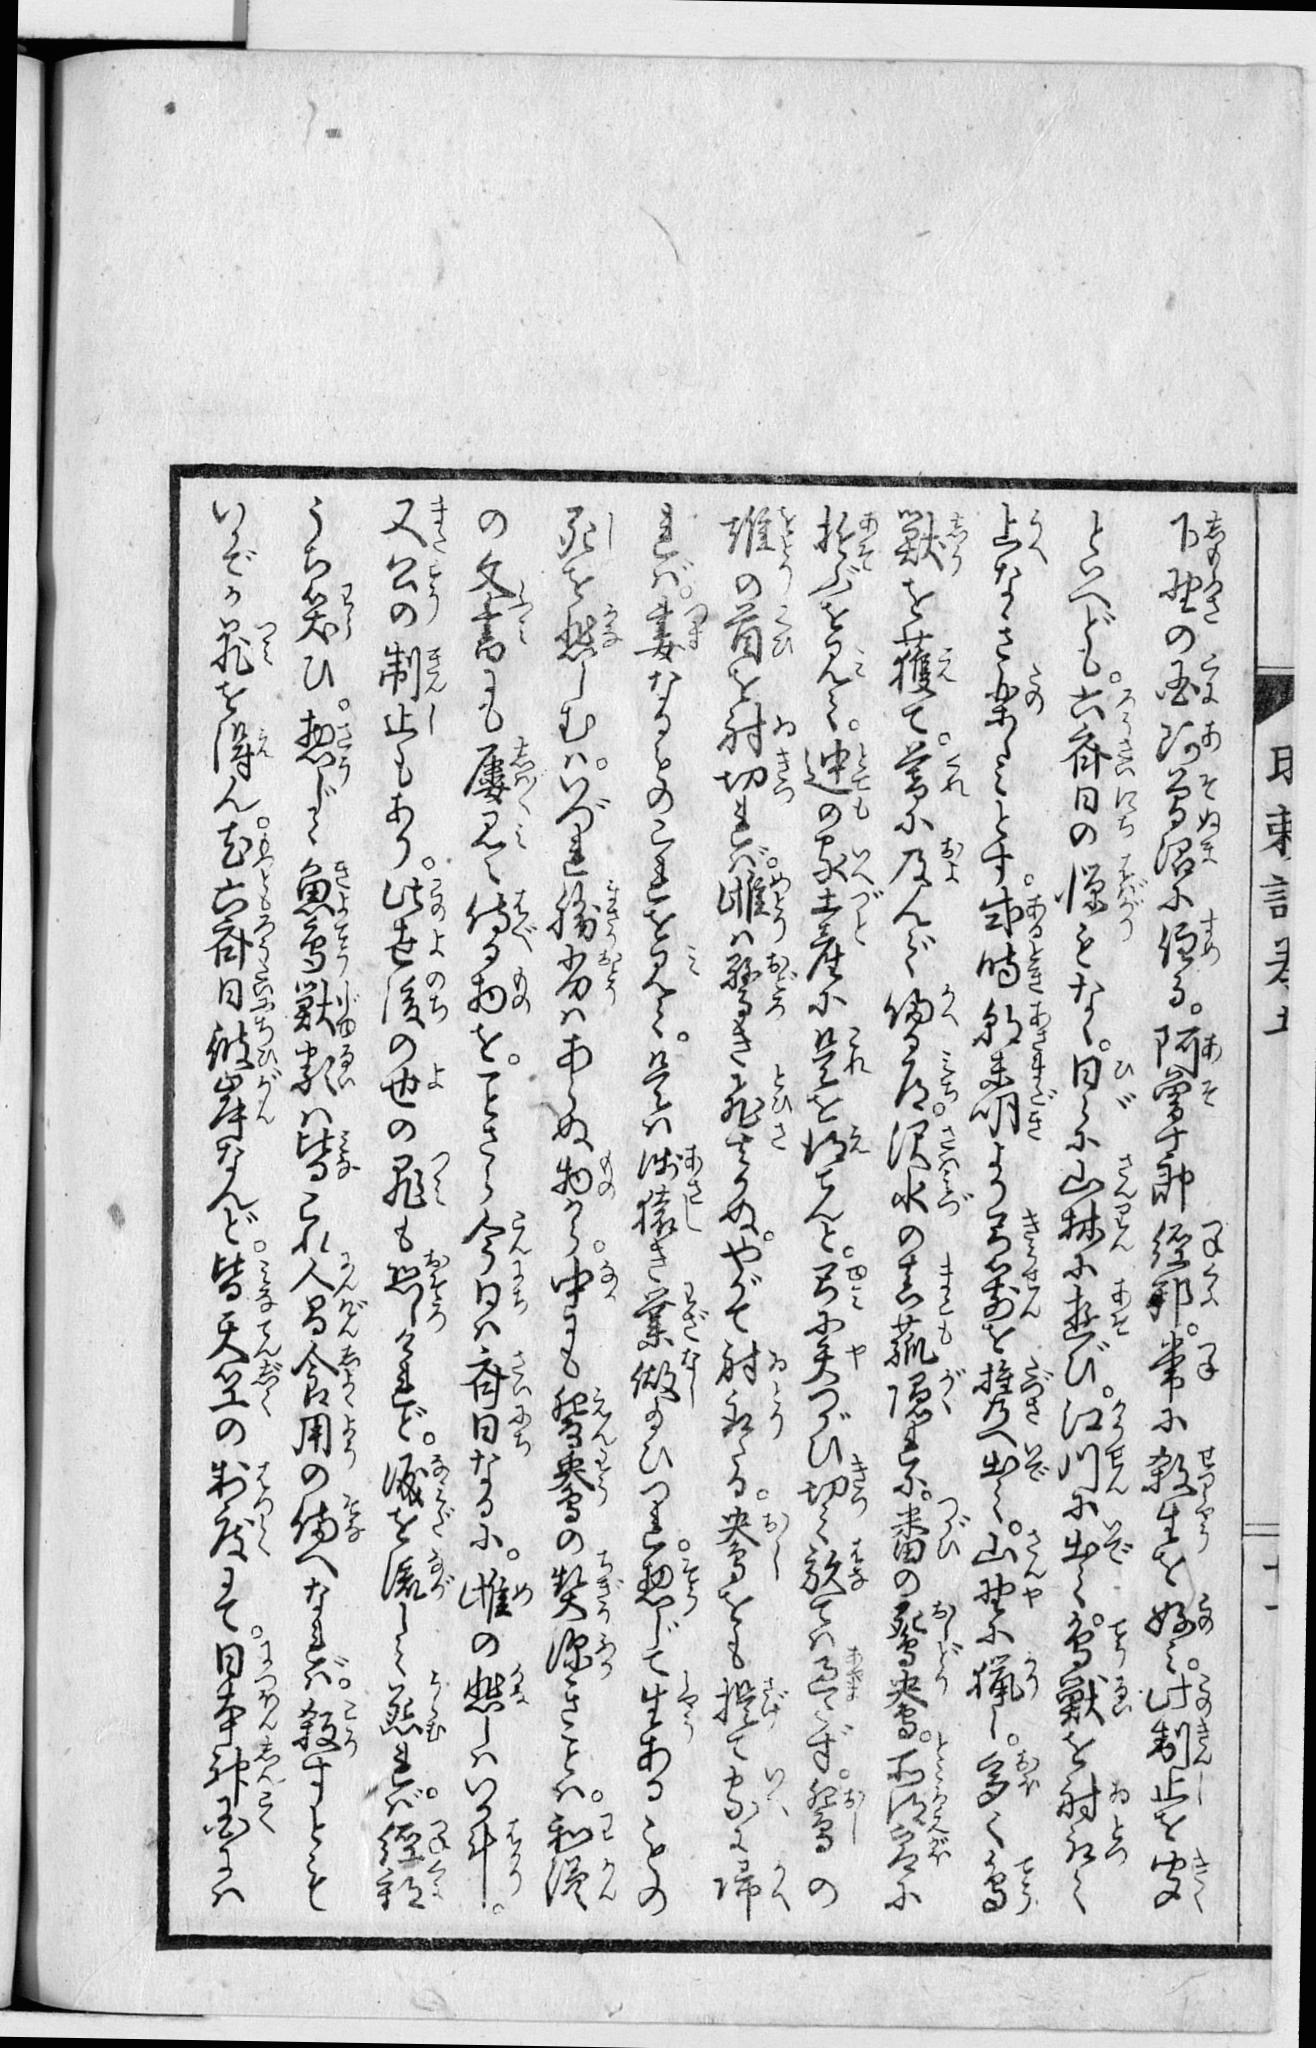MainZone-Character: (1062, 854, 1147, 939), (883, 500, 974, 576), (798, 739, 877, 817), (380, 1455, 458, 1535), (471, 584, 540, 672), (546, 1549, 622, 1627), (795, 1775, 870, 1854), (710, 1506, 789, 1581), (718, 506, 800, 578), (458, 739, 540, 811), (461, 1260, 533, 1342), (376, 1672, 455, 1745), (877, 1600, 965, 1666), (710, 1858, 797, 1924), (628, 1669, 703, 1743), (380, 1249, 452, 1327), (712, 867, 795, 933), (791, 1451, 876, 1515), (882, 1366, 973, 1426), (382, 552, 451, 631), (700, 746, 795, 803), (718, 949, 800, 1015), (370, 636, 452, 702), (1062, 724, 1146, 788), (546, 1452, 619, 1526), (463, 809, 534, 884), (552, 878, 628, 948), (880, 1497, 965, 1560), (885, 1252, 965, 1318), (792, 1536, 874, 1599), (463, 888, 545, 951), (289, 712, 358, 787), (457, 1564, 536, 1629), (880, 1170, 977, 1223), (637, 597, 712, 664), (885, 1046, 961, 1112), (464, 1818, 528, 1896), (203, 616, 281, 681), (631, 1142, 716, 1200), (539, 1857, 624, 1915), (970, 1746, 1044, 1812), (291, 1340, 361, 1409), (979, 1208, 1043, 1282), (630, 1281, 704, 1345), (1055, 1614, 1137, 1672), (1058, 1440, 1140, 1499), (540, 1627, 622, 1685), (807, 885, 883, 948), (974, 1052, 1058, 1109), (709, 1766, 792, 1823), (200, 1070, 283, 1127), (380, 1152, 460, 1212), (974, 1852, 1043, 1921), (812, 505, 880, 573), (1144, 1848, 1216, 1914), (549, 1385, 621, 1451), (198, 1454, 279, 1512), (880, 1120, 970, 1172), (715, 702, 797, 758), (971, 939, 1050, 997), (198, 1254, 278, 1312), (806, 1020, 868, 1093), (288, 976, 363, 1037), (549, 505, 621, 567), (1147, 1336, 1226, 1393), (200, 1739, 291, 1788), (1152, 563, 1226, 622), (624, 1349, 704, 1405), (882, 1317, 967, 1369), (540, 1808, 625, 1860), (552, 948, 628, 1006), (373, 1548, 455, 1602), (800, 1257, 877, 1314), (1153, 769, 1223, 831), (792, 1646, 864, 1708), (889, 834, 968, 890), (1059, 1281, 1134, 1339), (209, 1630, 283, 1688), (1052, 1673, 1137, 1724), (551, 606, 627, 663), (379, 972, 455, 1028), (289, 1130, 366, 1187), (979, 663, 1046, 727), (640, 927, 703, 996), (461, 1346, 531, 1408), (291, 1699, 361, 1760), (460, 1403, 542, 1455), (461, 1209, 533, 1269), (549, 1148, 622, 1206), (1056, 1203, 1140, 1254), (201, 722, 276, 779), (631, 1561, 707, 1617), (1156, 911, 1226, 970), (709, 1675, 786, 1729), (718, 1382, 789, 1440), (204, 1311, 282, 1364), (291, 1412, 363, 1470), (724, 600, 797, 657), (873, 982, 962, 1028), (882, 1733, 956, 1788), (291, 917, 360, 976), (973, 999, 1053, 1049), (289, 1493, 366, 1546), (463, 966, 533, 1024), (1144, 1021, 1223, 1072), (1144, 1270, 1223, 1321), (1141, 1448, 1221, 1499), (716, 1070, 795, 1121), (897, 746, 971, 800), (385, 493, 452, 552), (210, 1363, 285, 1417), (1152, 652, 1221, 711), (464, 1663, 533, 1721), (289, 857, 358, 915), (1146, 1220, 1229, 1267), (976, 1529, 1052, 1581), (877, 642, 958, 691), (373, 1864, 454, 1914), (377, 1060, 449, 1115), (288, 1040, 360, 1096), (962, 1652, 1040, 1703), (976, 885, 1049, 939), (1059, 1152, 1141, 1200), (1141, 1590, 1221, 1639), (200, 1791, 276, 1842), (1058, 1523, 1138, 1570), (801, 1334, 873, 1388), (1056, 1818, 1134, 1867), (965, 1096, 1050, 1140), (1161, 509, 1229, 564), (877, 1824, 956, 1872), (876, 1785, 955, 1833), (803, 1120, 873, 1173), (294, 581, 358, 639), (1058, 1396, 1135, 1443), (1146, 1497, 1215, 1551), (200, 920, 279, 966), (201, 1021, 281, 1067), (992, 503, 1055, 561), (207, 1691, 283, 1739), (377, 921, 451, 970), (1152, 718, 1226, 766), (1070, 785, 1144, 833), (1053, 1776, 1135, 1820), (376, 875, 452, 921), (980, 1394, 1046, 1446), (624, 1191, 703, 1234), (1144, 1718, 1216, 1766), (716, 1334, 788, 1382), (206, 1514, 278, 1561), (376, 697, 442, 748), (1152, 1072, 1221, 1120), (1143, 1672, 1215, 1717), (210, 969, 279, 1015), (295, 1297, 369, 1340), (976, 1354, 1053, 1394), (375, 1821, 449, 1863), (551, 1257, 618, 1303), (1149, 836, 1221, 879), (813, 634, 868, 688), (724, 1126, 797, 1166), (288, 1260, 361, 1300), (209, 824, 276, 867), (974, 1443, 1049, 1482), (1070, 688, 1143, 727), (206, 872, 275, 912), (886, 1666, 953, 1706), (810, 843, 874, 885), (1068, 1055, 1143, 1091), (977, 1282, 1041, 1323), (1147, 1766, 1207, 1806), (974, 1579, 1046, 1609)
MainZone-Ruby: (1116, 854, 1149, 940), (591, 1548, 625, 1624), (771, 503, 801, 585), (509, 737, 542, 812), (762, 951, 797, 1017), (934, 1496, 968, 1560), (425, 1251, 454, 1329), (249, 1361, 286, 1417), (849, 888, 882, 951), (761, 1511, 791, 1579), (1018, 1208, 1044, 1284), (428, 1455, 454, 1536), (504, 1818, 531, 1893), (930, 1600, 961, 1663), (425, 1543, 458, 1603), (425, 496, 457, 557), (936, 1172, 976, 1218), (937, 1246, 962, 1320), (425, 1669, 451, 1742), (1012, 1852, 1041, 1914), (588, 1384, 618, 1445), (333, 1343, 363, 1405), (677, 1670, 703, 1742), (682, 1145, 712, 1205), (325, 858, 355, 918), (252, 1069, 282, 1128), (1189, 1851, 1216, 1917), (252, 1742, 288, 1791), (509, 1403, 540, 1458), (509, 888, 540, 943), (946, 511, 971, 578), (767, 602, 797, 658), (680, 1282, 710, 1339), (503, 1261, 533, 1318), (337, 1493, 372, 1542), (1103, 1818, 1134, 1872), (422, 560, 446, 630), (1109, 1614, 1137, 1672), (843, 1784, 870, 1845), (845, 1452, 871, 1514), (853, 509, 877, 578), (506, 1346, 537, 1399), (1107, 1281, 1135, 1337), (1027, 1054, 1056, 1108), (1100, 1443, 1129, 1497), (768, 872, 792, 939), (941, 751, 973, 802), (1016, 1355, 1055, 1396), (679, 1558, 706, 1617), (595, 951, 625, 1003), (334, 1294, 370, 1337), (333, 722, 357, 787), (674, 1349, 701, 1406), (425, 1151, 452, 1208), (936, 1367, 965, 1418), (762, 1384, 788, 1443), (336, 979, 361, 1039), (767, 1063, 794, 1118), (759, 1675, 788, 1727), (845, 1260, 873, 1312), (765, 1857, 791, 1915), (1103, 1520, 1132, 1569), (248, 1315, 281, 1360), (682, 600, 710, 651), (252, 1458, 281, 1509), (601, 878, 622, 946), (1194, 1339, 1223, 1387), (759, 1766, 789, 1814), (842, 1646, 865, 1706), (853, 742, 871, 821), (1021, 1527, 1047, 1579), (1016, 1742, 1041, 1797), (422, 640, 448, 696), (252, 1687, 281, 1736), (1201, 561, 1225, 619), (773, 748, 797, 806), (327, 1257, 361, 1297), (1200, 909, 1225, 963), (595, 1151, 621, 1205), (1024, 999, 1049, 1051), (337, 1130, 363, 1182), (1113, 734, 1140, 784), (252, 1017, 279, 1066), (1195, 773, 1219, 828), (936, 1049, 959, 1105), (1022, 891, 1050, 937), (1018, 1282, 1046, 1329), (506, 1211, 534, 1257), (1198, 652, 1221, 711), (337, 581, 360, 639), (843, 1024, 868, 1075), (1203, 509, 1226, 563), (1110, 1202, 1134, 1255), (598, 1857, 622, 1911), (337, 1415, 361, 1469), (252, 1639, 279, 1687), (1112, 790, 1140, 834), (591, 1449, 613, 1506), (1022, 663, 1046, 715), (846, 1539, 870, 1591), (512, 585, 533, 645), (251, 618, 275, 670), (1112, 1154, 1138, 1200), (594, 1624, 616, 1679), (933, 643, 961, 687), (249, 969, 278, 1012), (331, 920, 352, 978), (1191, 1502, 1216, 1549), (1024, 940, 1046, 994), (927, 1787, 950, 1836), (507, 966, 531, 1015), (254, 915, 278, 964), (1110, 1673, 1135, 1720), (937, 836, 962, 882), (1028, 505, 1047, 564), (1197, 1218, 1226, 1257), (1022, 1445, 1052, 1484), (1197, 1448, 1221, 1496), (1194, 1590, 1218, 1638), (255, 1258, 276, 1312), (425, 970, 448, 1020), (846, 1121, 874, 1160), (424, 1866, 451, 1906), (1194, 1721, 1216, 1769), (340, 1703, 361, 1754), (1019, 1652, 1041, 1699), (509, 1664, 531, 1711), (849, 636, 870, 685), (337, 1040, 358, 1090), (600, 603, 622, 648), (680, 1196, 703, 1239), (430, 1818, 452, 1861), (254, 721, 275, 767), (1200, 1263, 1219, 1312), (931, 1733, 950, 1782), (1113, 688, 1138, 725), (939, 1126, 959, 1170), (845, 1337, 874, 1369), (680, 940, 701, 984), (255, 1791, 276, 1835), (600, 1258, 619, 1305), (1201, 1076, 1225, 1114), (597, 1811, 621, 1848), (765, 1124, 792, 1157), (255, 870, 276, 912), (427, 876, 448, 918), (1021, 1397, 1046, 1432), (850, 848, 873, 887), (1197, 718, 1221, 754), (764, 1343, 788, 1379), (1106, 1396, 1127, 1436), (1198, 1031, 1222, 1066), (251, 833, 275, 867), (1195, 1672, 1215, 1714), (940, 987, 961, 1025), (600, 509, 619, 551), (927, 1838, 953, 1866), (512, 1578, 534, 1611), (1021, 1584, 1047, 1611), (257, 1517, 275, 1557), (424, 925, 445, 960), (1112, 1057, 1137, 1084), (421, 699, 440, 733), (1106, 1779, 1129, 1806), (1028, 1109, 1047, 1142), (1197, 840, 1218, 869), (933, 1667, 953, 1696), (510, 819, 530, 849), (773, 712, 795, 737), (1192, 1772, 1210, 1803), (427, 1061, 445, 1093), (937, 1323, 956, 1348)
